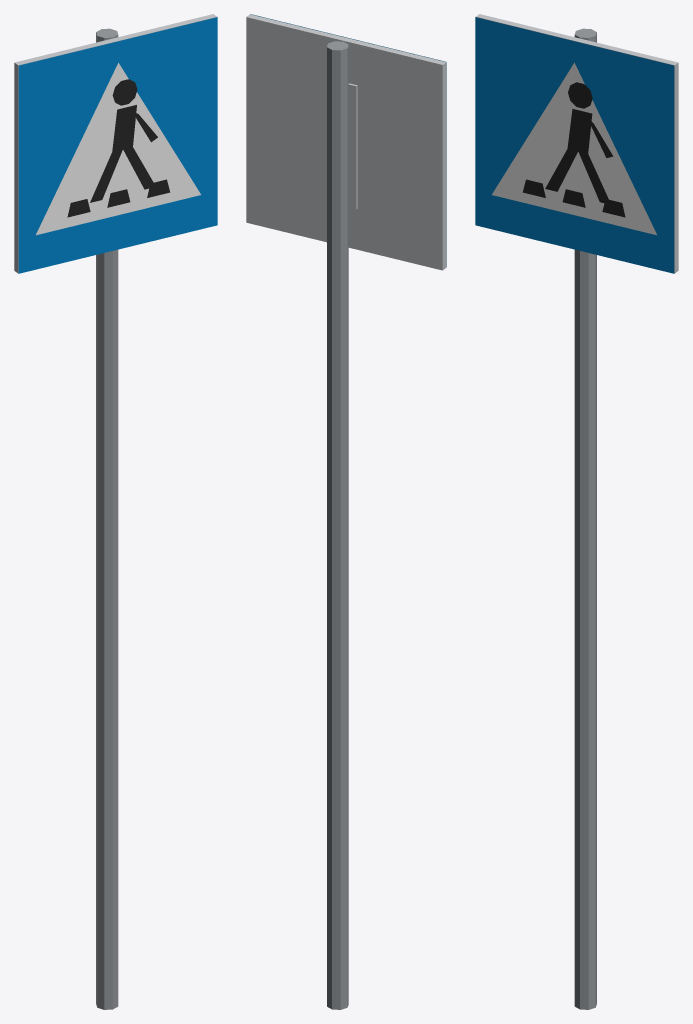
Rendered from sinal_h7.glb.
3 views of the same model, side by side, from view 1: azimuth 30°, elevation 25°; view 2: azimuth 150°, elevation 25°; view 3: azimuth 330°, elevation 25° (orthographic).
Parts seen in each view (by area): view 1: sinal_h7; view 2: sinal_h7; view 3: sinal_h7.
Boxes of the visible parts, x1,y1,x2,y2 form: sinal_h7: (14,14,217,1009); sinal_h7: (246,14,446,1009); sinal_h7: (475,14,678,1009).
Size of the model in its own units: 0.6 by 2.8 by 0.091.
